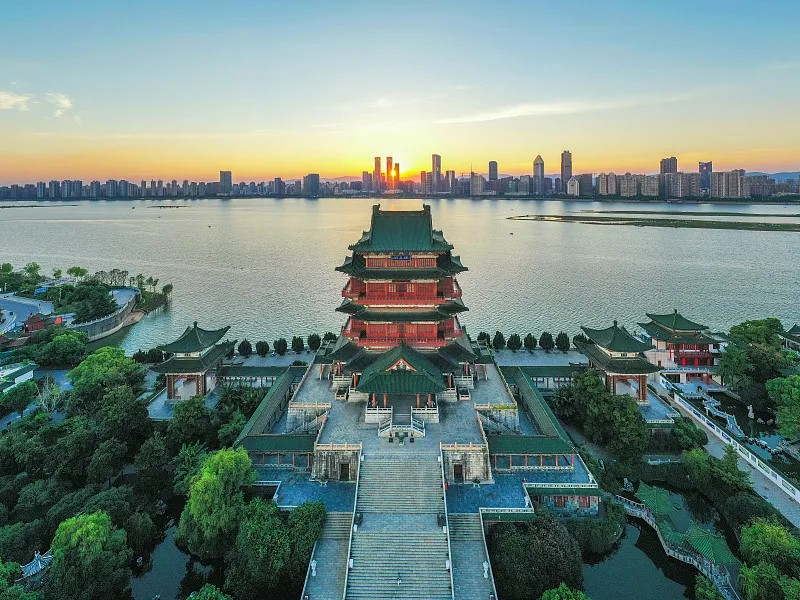Teng: (314, 203, 495, 412)
